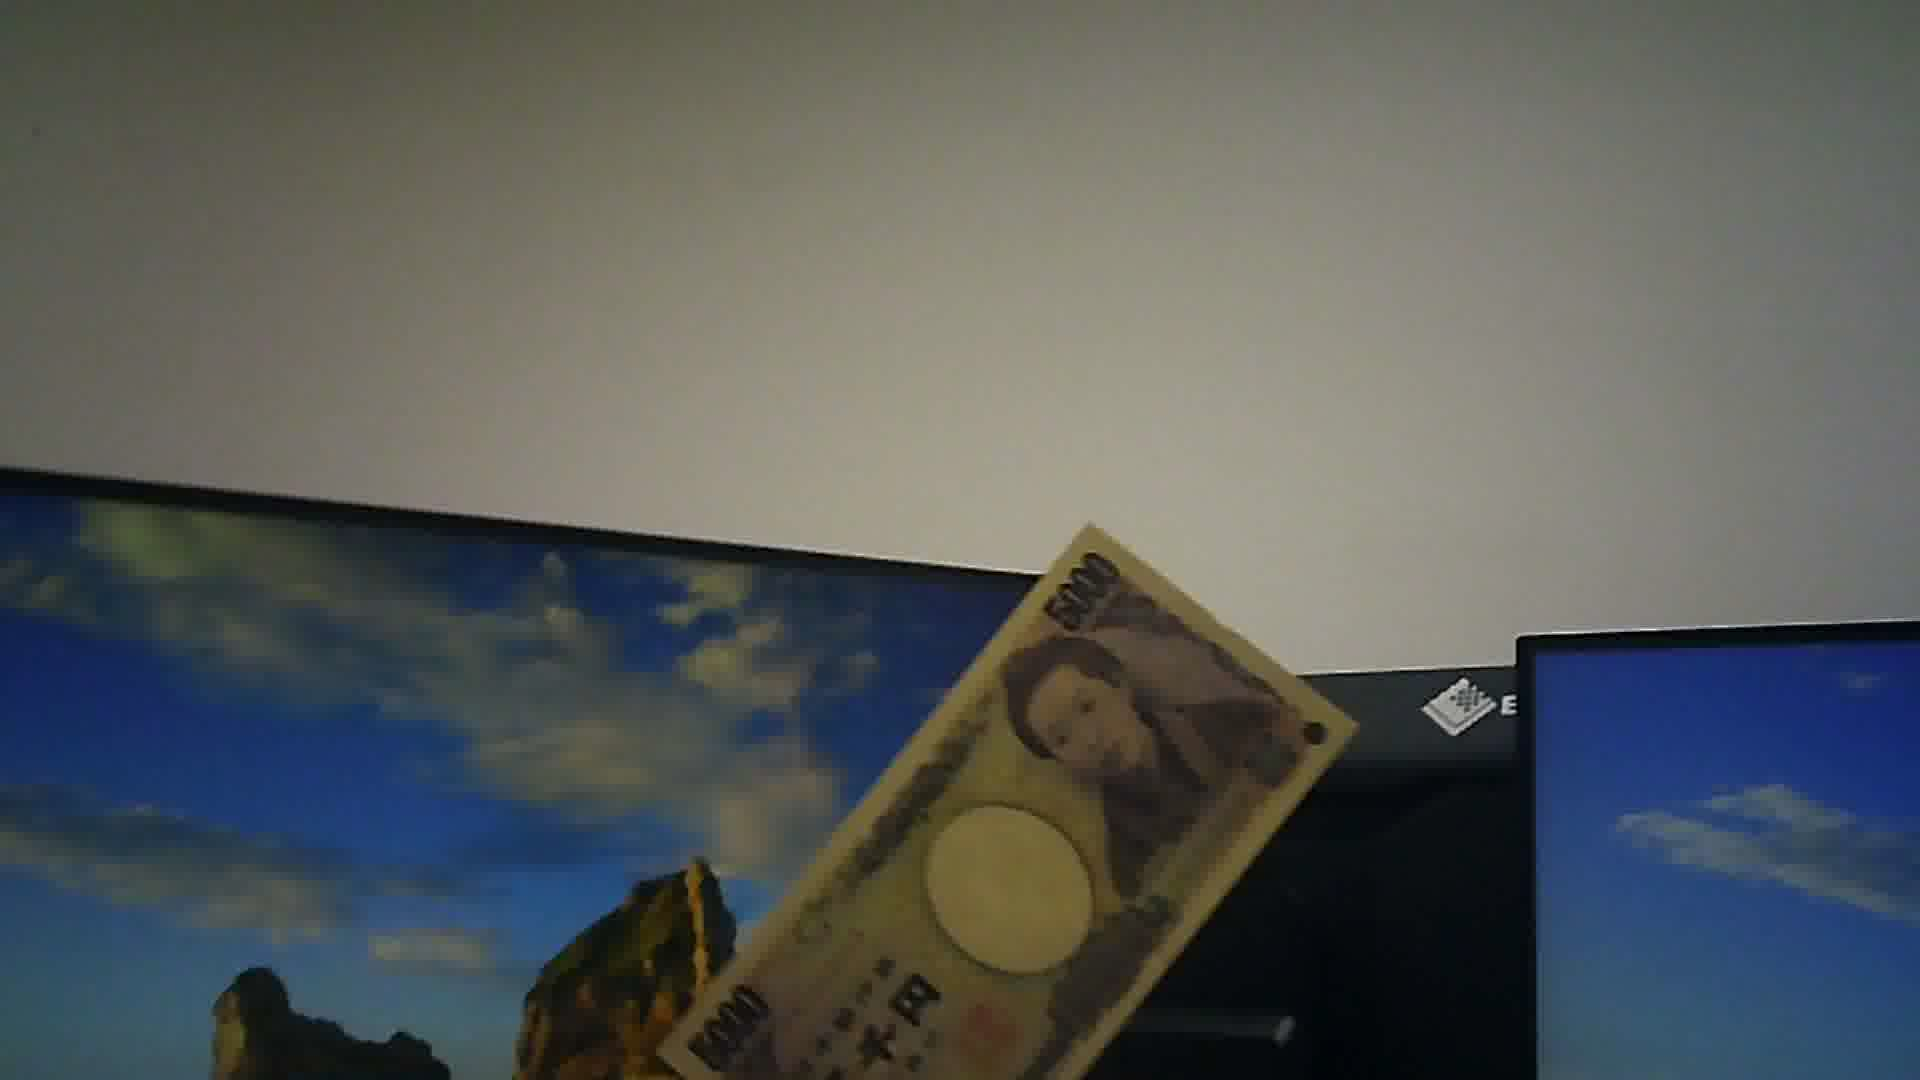5,000 Yen: (644, 512, 1360, 1079)
